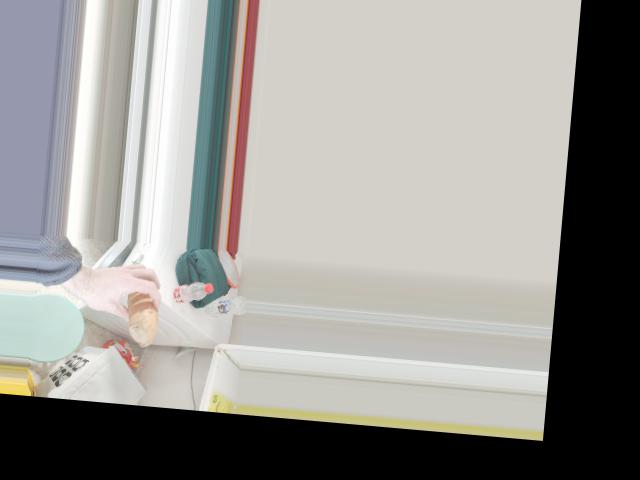sweet_potato: (109, 276, 156, 330)
